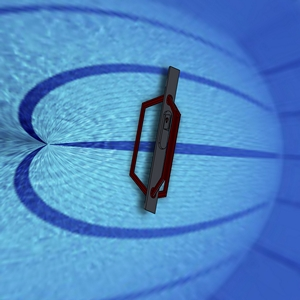submarine: (114, 41, 202, 223)
